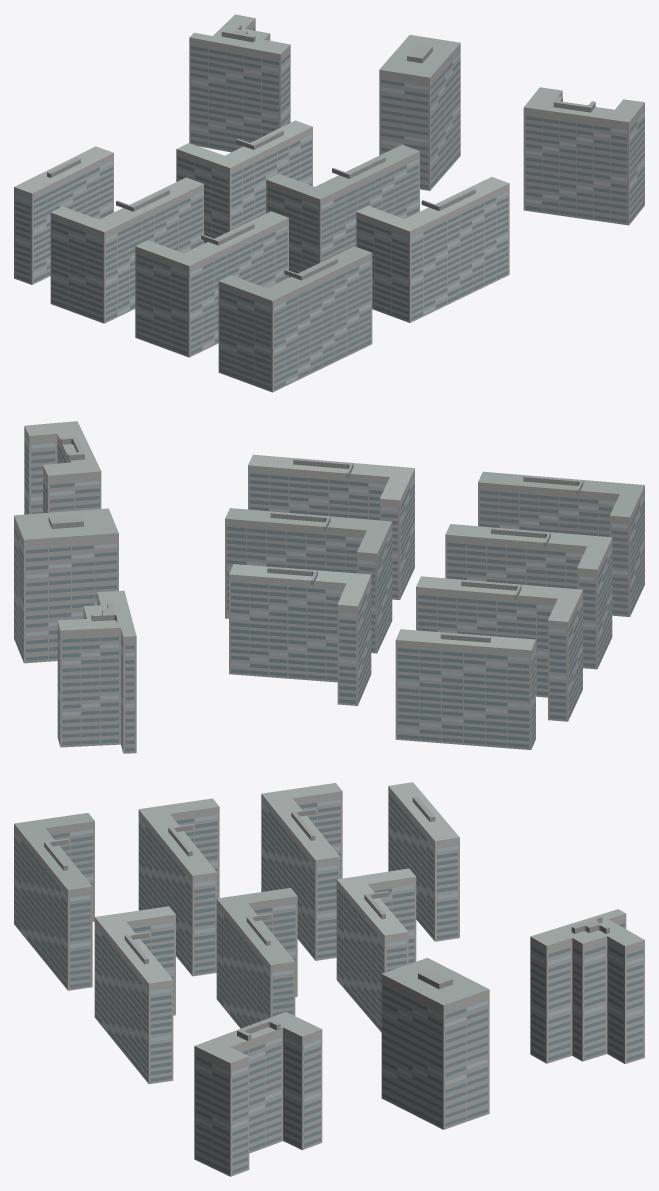
File: apt-a12185003.glb
3 views of the same model, one above another, from view 1: azimuth 30°, elevation 25°; view 2: azimuth 150°, elevation 25°; view 3: azimuth 270°, elevation 25° (orthographic). The views are drawn at different scales.
Visible parts, largest first — view 1: apt-a12185003; view 2: apt-a12185003; view 3: apt-a12185003.
Boxes of the visible parts, bbox=[...] form: apt-a12185003: bbox=[14, 14, 644, 392]; apt-a12185003: bbox=[14, 421, 644, 753]; apt-a12185003: bbox=[14, 782, 644, 1176].
Size of the model in its own units: 287 by 59 by 260.
